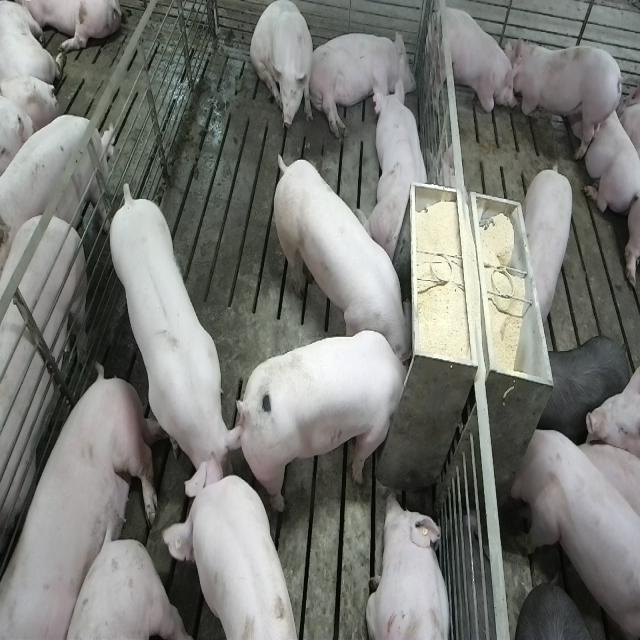Feeding: (243, 330, 418, 514), (269, 144, 411, 362)
Lateral_lying: (4, 367, 158, 640), (307, 27, 418, 140)
Sitting: (251, 2, 315, 136)
Standing: (108, 183, 246, 512), (0, 205, 89, 586), (508, 421, 638, 636), (164, 471, 303, 640), (0, 109, 111, 257), (430, 2, 518, 132), (539, 332, 631, 445), (524, 161, 577, 325)
Sternal_lying: (511, 30, 624, 155), (366, 489, 454, 640), (362, 78, 432, 264), (578, 86, 638, 212)
